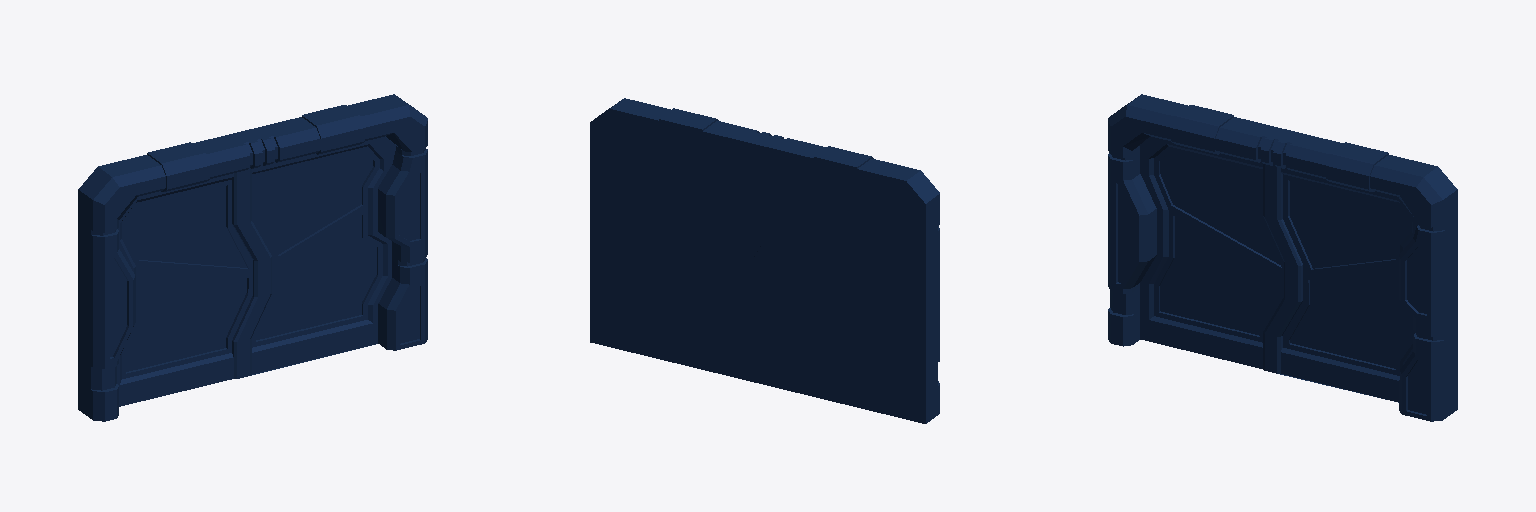
The model's file is door.obj.
The picture shows the model from 3 angles: view 1: azimuth 30°, elevation 25°; view 2: azimuth 150°, elevation 25°; view 3: azimuth 330°, elevation 25°; orthographic projection.
Parts seen in each view (by area): view 1: SmartCombine_0; view 2: SmartCombine_0; view 3: SmartCombine_0.
Part boxes in pixels (x1,y1,x2,y2): SmartCombine_0: (78, 94, 427, 421); SmartCombine_0: (590, 98, 939, 423); SmartCombine_0: (1108, 94, 1457, 421).
Size of the model in its own units: 46 by 31.47 by 4.73.